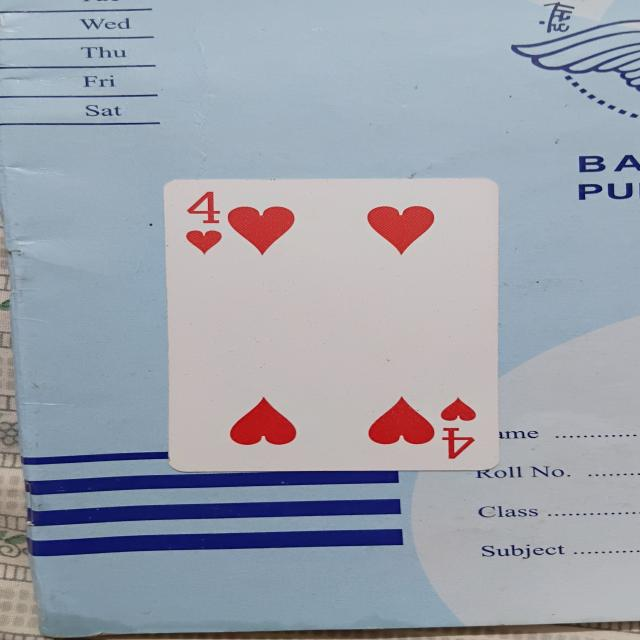4H: (155, 174, 504, 474)
